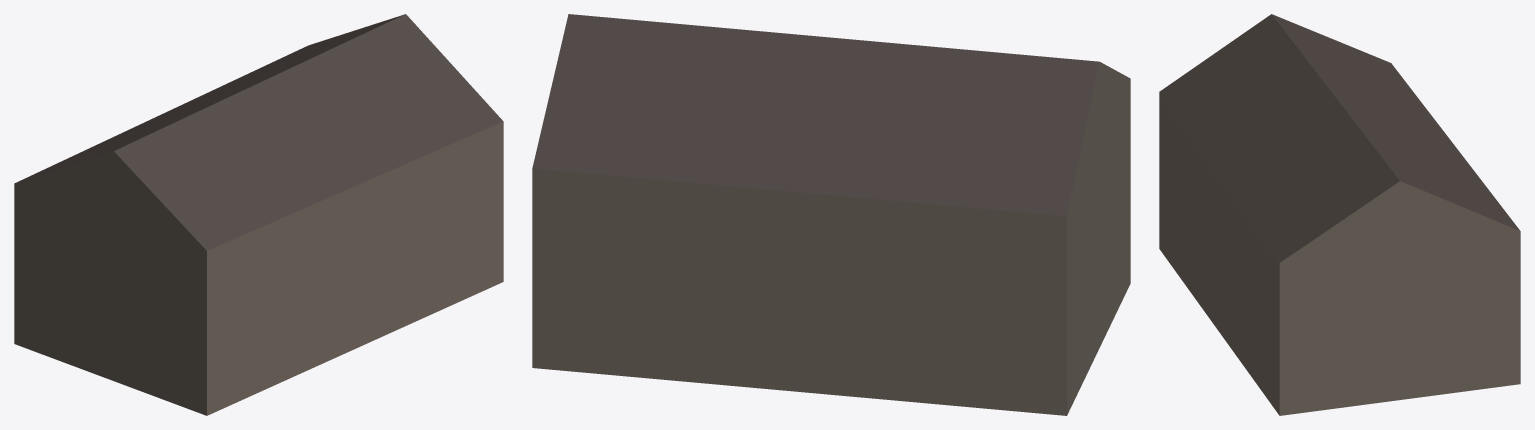
3 renders of one model, left to right at view 1: azimuth 30°, elevation 25°; view 2: azimuth 150°, elevation 25°; view 3: azimuth 270°, elevation 25°, orthographic. The views are drawn at different scales.
Visible parts, largest first — view 1: HP-w1196401625; view 2: HP-w1196401625; view 3: HP-w1196401625.
Part boxes in pixels (x1,y1,x2,y2): HP-w1196401625: (14, 14, 503, 415); HP-w1196401625: (532, 14, 1130, 415); HP-w1196401625: (1159, 14, 1520, 415).
Bounding box in the file's own units: 16.83 × 8.59 × 12.85.
